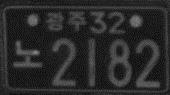1: (86, 37, 97, 88)
2: (134, 37, 162, 88), (51, 36, 77, 87), (107, 10, 126, 34)
3: (89, 9, 106, 34)
8: (107, 38, 133, 88)
광주_O: (46, 9, 87, 33)
노: (12, 39, 43, 68)
